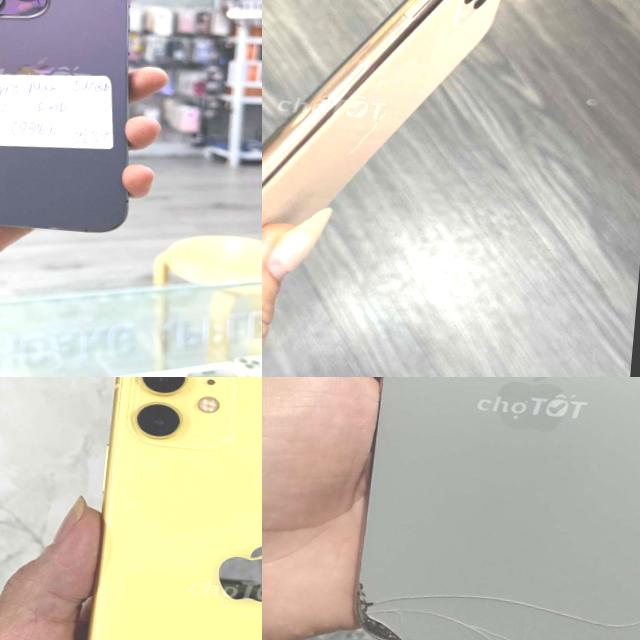gen_11: (262, 0, 554, 362)
gen_14: (71, 377, 262, 640), (0, 0, 154, 248)
gen_15: (323, 377, 640, 640)
physical_damage: (345, 552, 640, 640), (328, 581, 412, 640)
